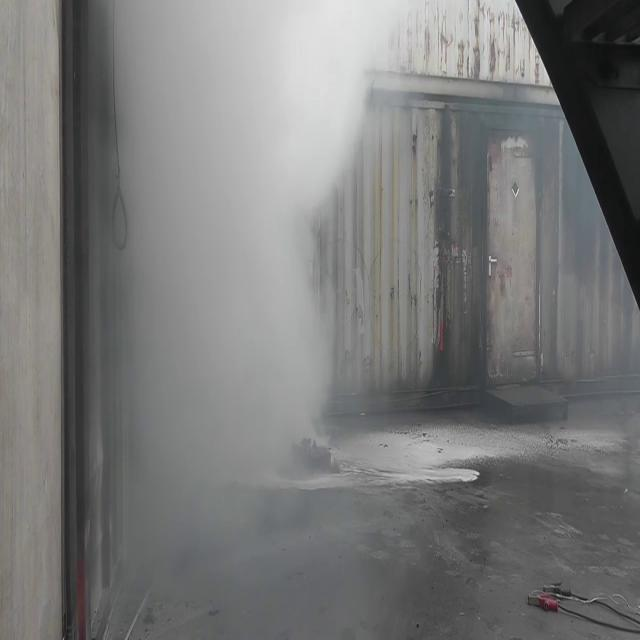Smoke: (92, 4, 346, 638)
